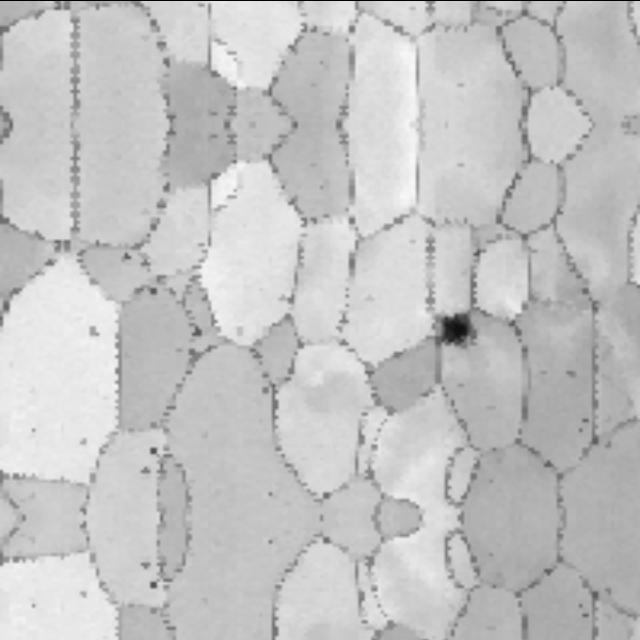good_void: (433, 303, 485, 352), (83, 318, 109, 343), (186, 321, 207, 337), (564, 364, 580, 381), (120, 248, 137, 263), (76, 434, 92, 449), (76, 584, 92, 599), (139, 464, 152, 478), (139, 555, 152, 569), (148, 282, 160, 296), (147, 442, 160, 454), (147, 579, 160, 591), (580, 413, 593, 424), (580, 609, 593, 620)
